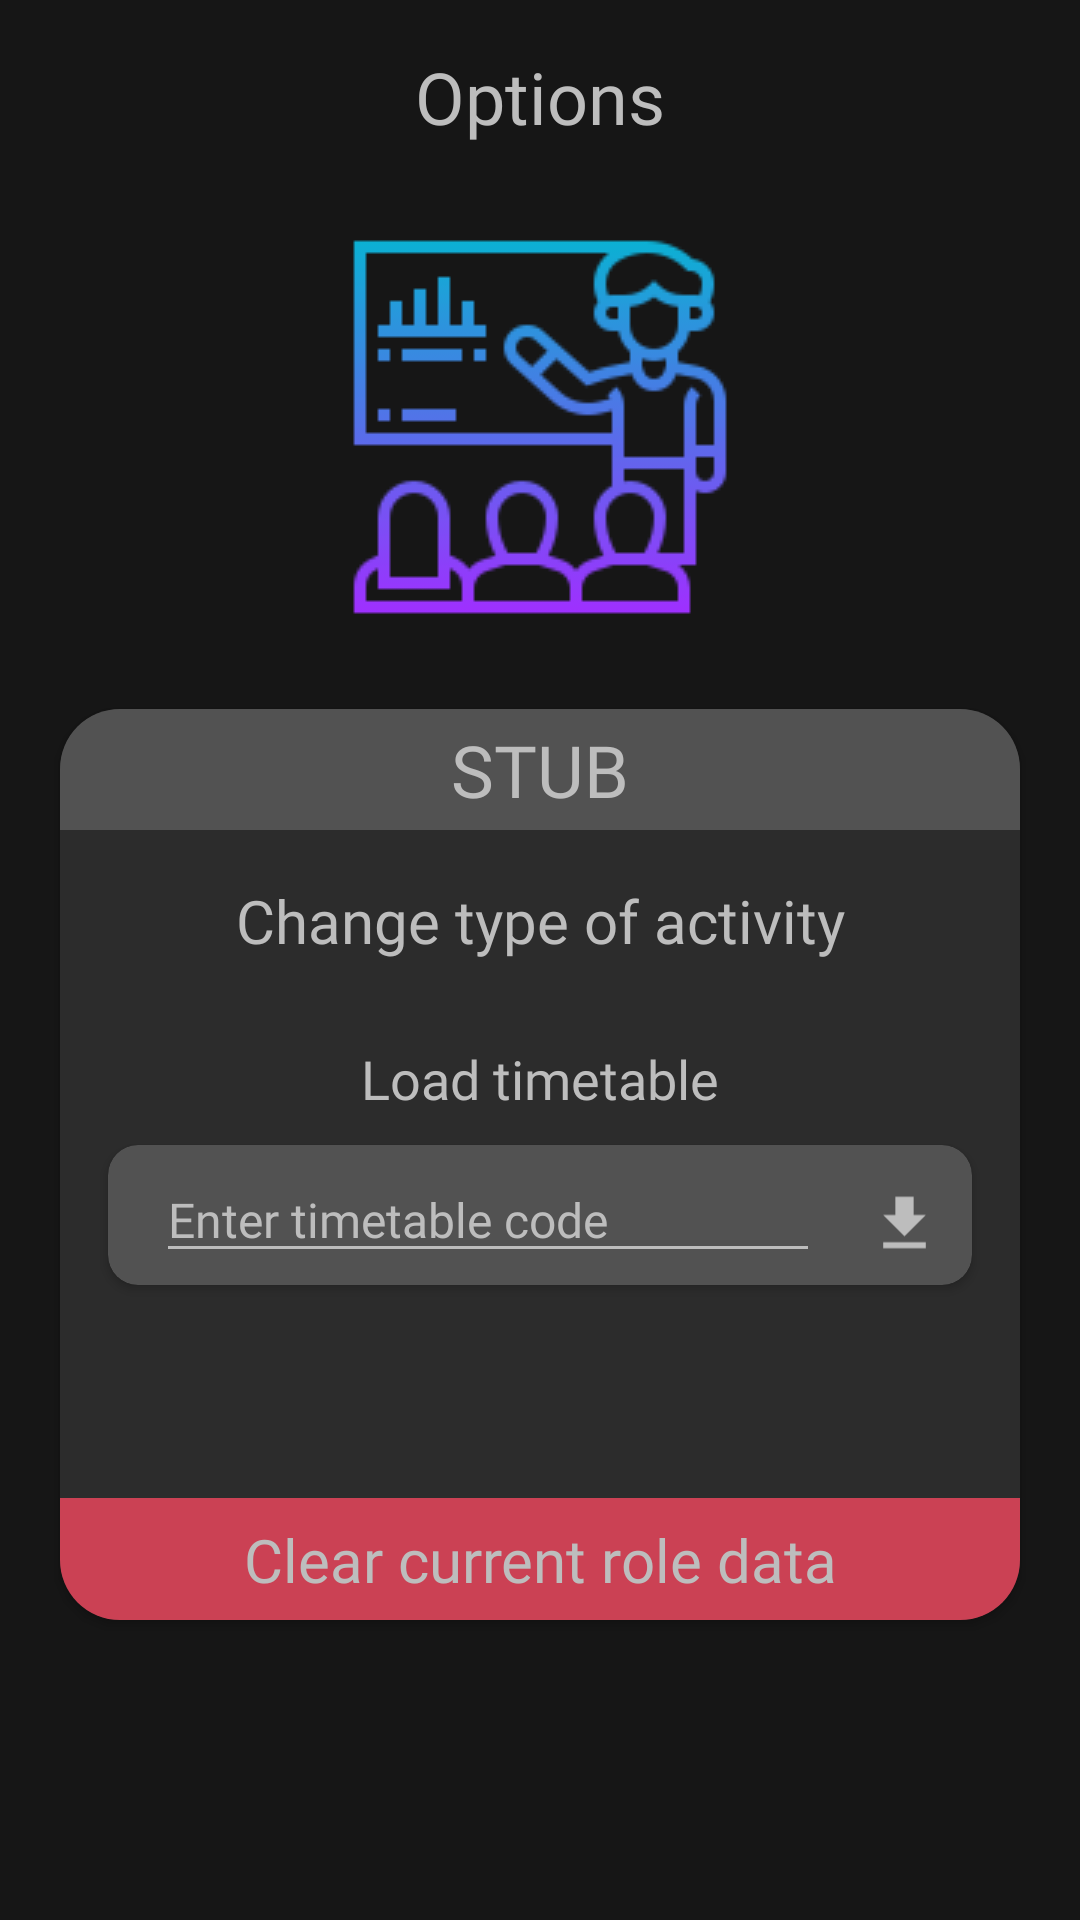

Named icons in this screenshot (1080x1920) and their centers, (x,y):
download: (904,1222)
